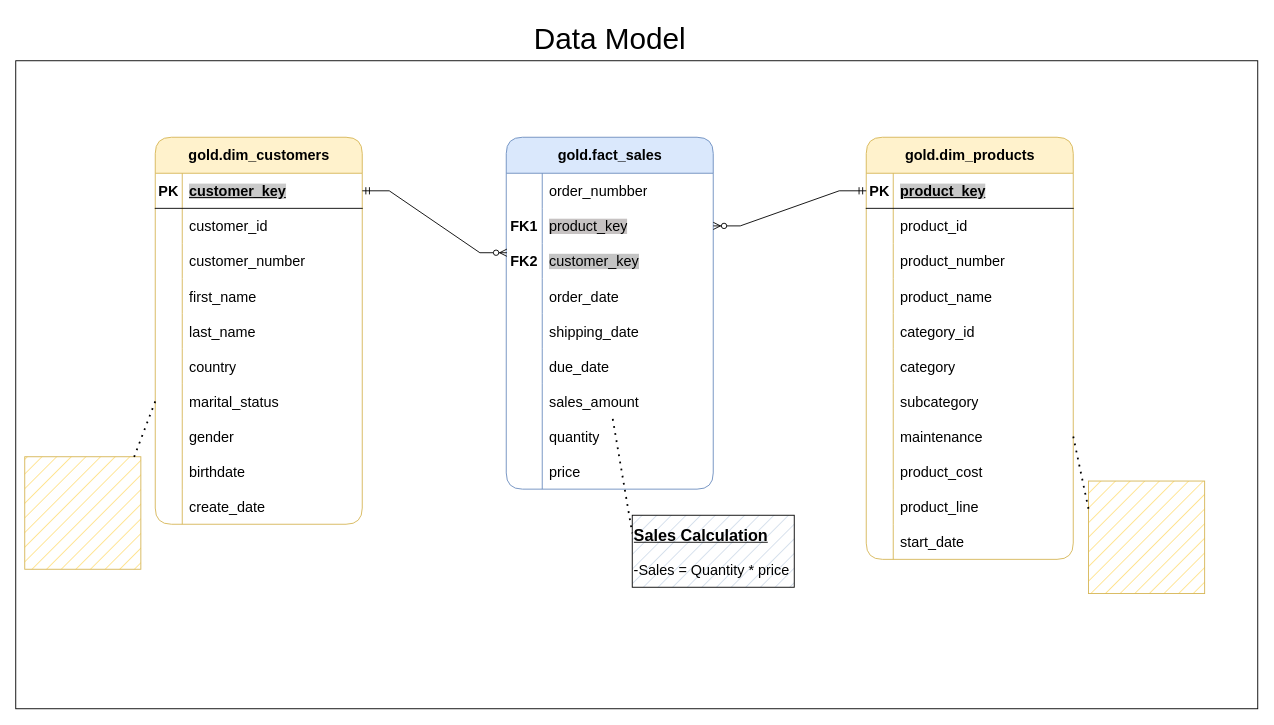
Image size: 1274x725. Some labels were removed from this diagram. The shapes that lost their labels are listed below. From the top down, each one's centre as x and y in pixels, then its label:
At pixel 82 512: "Marital_status -Married -single".
At pixel 1146 537: "Maintenance -Yes -No".
